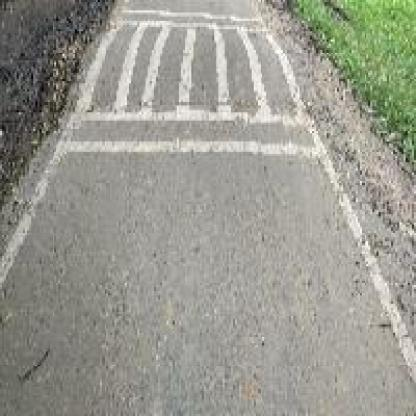Speed Bump: (52, 2, 331, 160)
